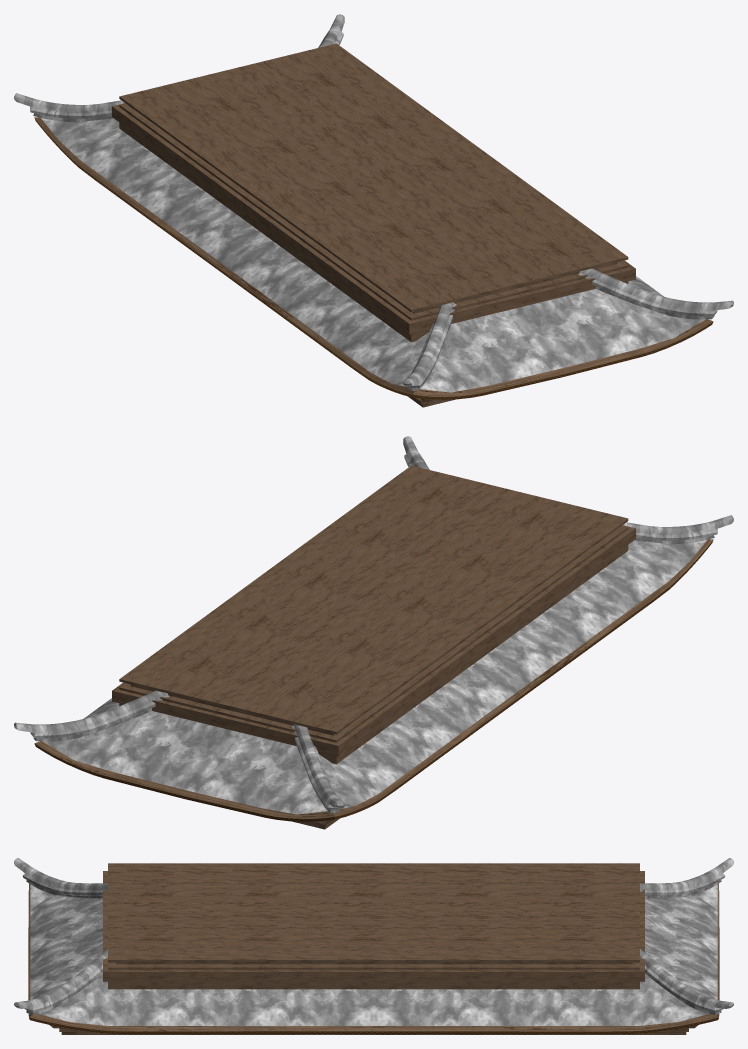
The model's file is SM_roof_05.fbx.
3 views of the same model, one above another, from view 1: azimuth 30°, elevation 25°; view 2: azimuth 150°, elevation 25°; view 3: azimuth 270°, elevation 25° (orthographic). The views are drawn at different scales.
Visible parts, largest first — view 1: SM_roof_05; view 2: SM_roof_05; view 3: SM_roof_05.
Part boxes in pixels (<box>): SM_roof_05: <box>14,14,733,407</box>; SM_roof_05: <box>14,436,733,829</box>; SM_roof_05: <box>14,858,733,1034</box>.
Bounding box in the file's own units: 1322 × 2737 × 289.
4 materials, 4 textured.
